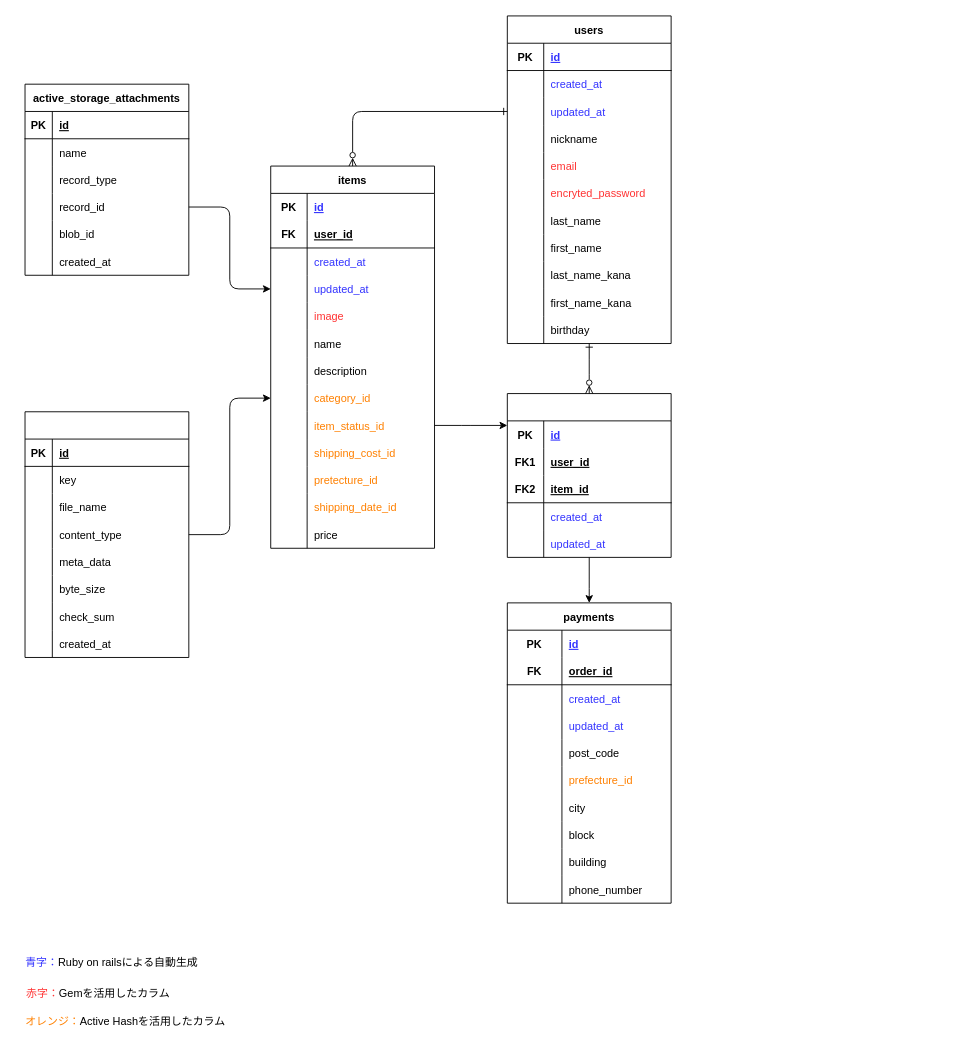
The diagram is 969 pixels wide and 1051 high, and some of its shapes have lost their labels. Here are the shapes that lost their labels. From the top down, the box of each, then its label:
(506, 393, 671, 557): orders
(24, 411, 189, 657): active_storage_blobs
